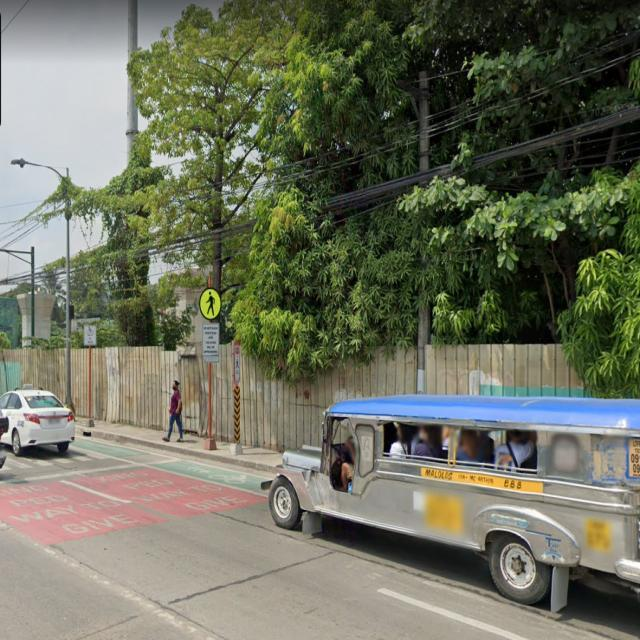pedestrian crossing: (199, 287, 222, 320)
